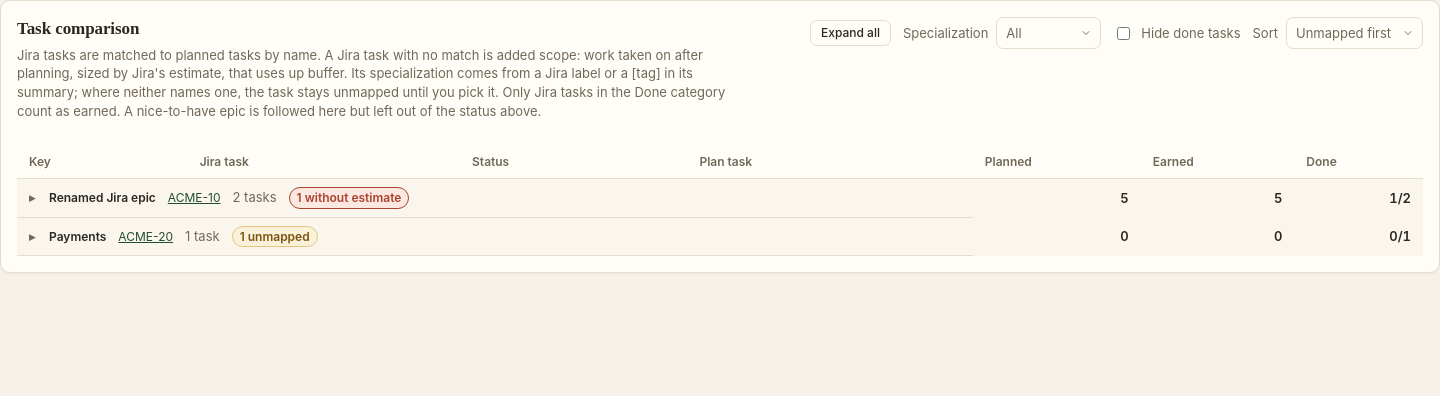
Test case: TasksTable › flags tasks mapped onto a plan task with no estimate
Check: the text "1 without estimate" is shown, box [289,187,409,209]
Step 1. Click the button "▸ Renamed Jira epic" → (92,198), box [29,189,156,207]
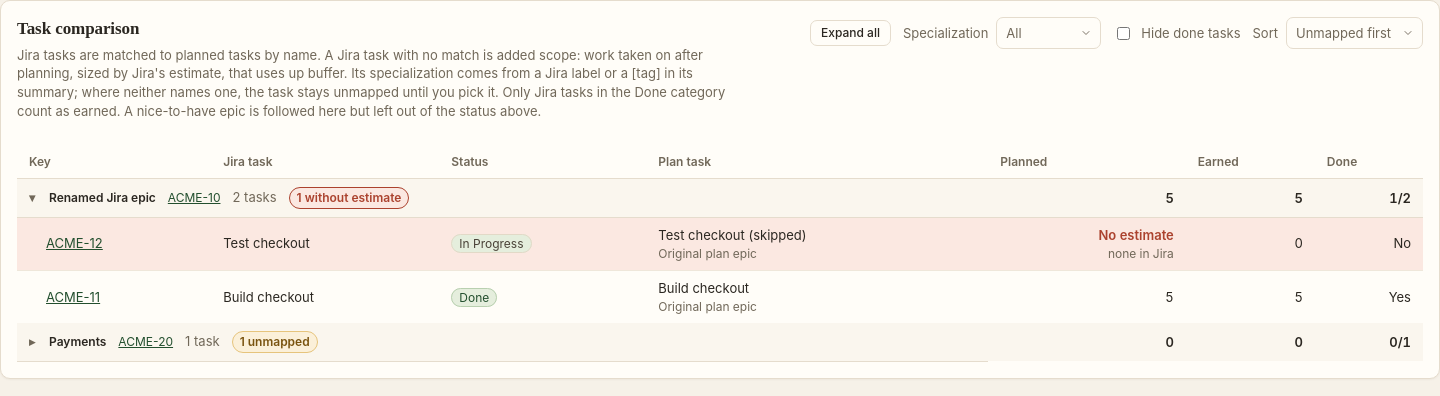
Check: the text "No estimate" is shown, box [1098,226,1174,245]
Check: the text "none in Jira" is shown, box [1108,245,1174,262]
